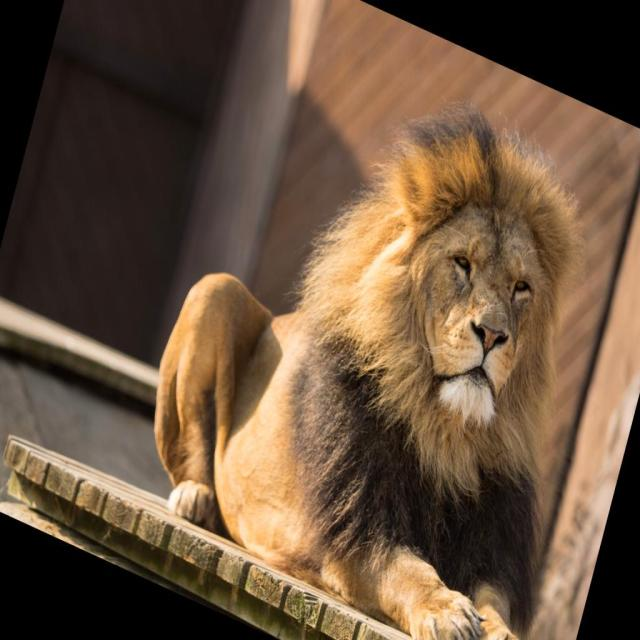Lion: (123, 0, 639, 639)
